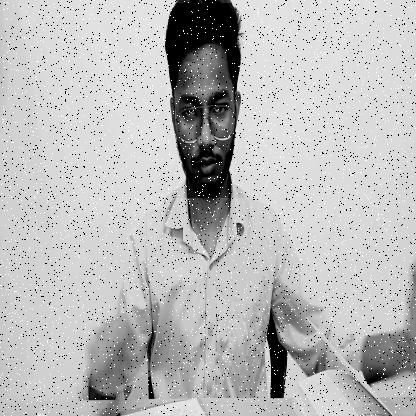Normal: (158, 3, 244, 198)
